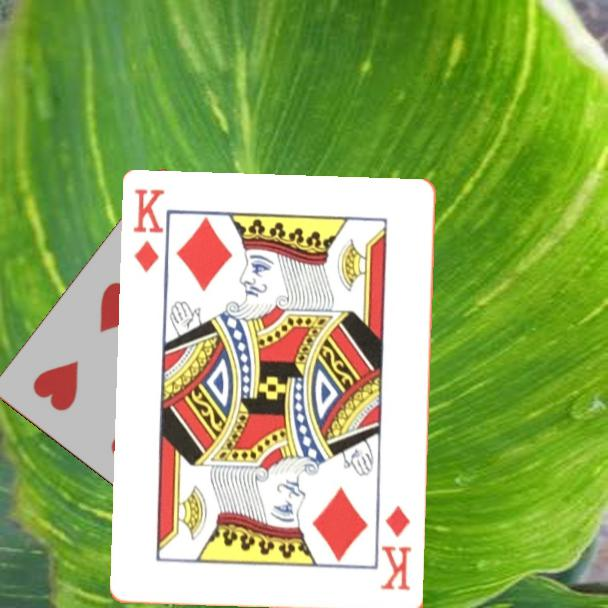d13: (377, 503, 415, 593), (130, 186, 168, 276)
